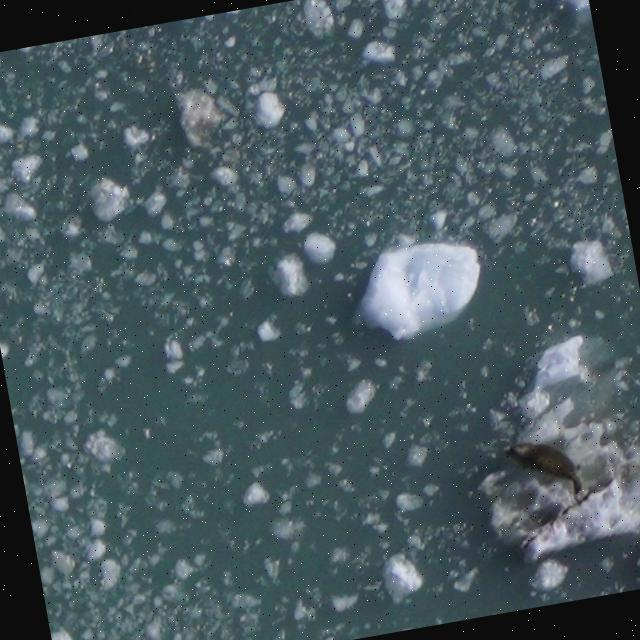seal: (497, 429, 589, 510)
